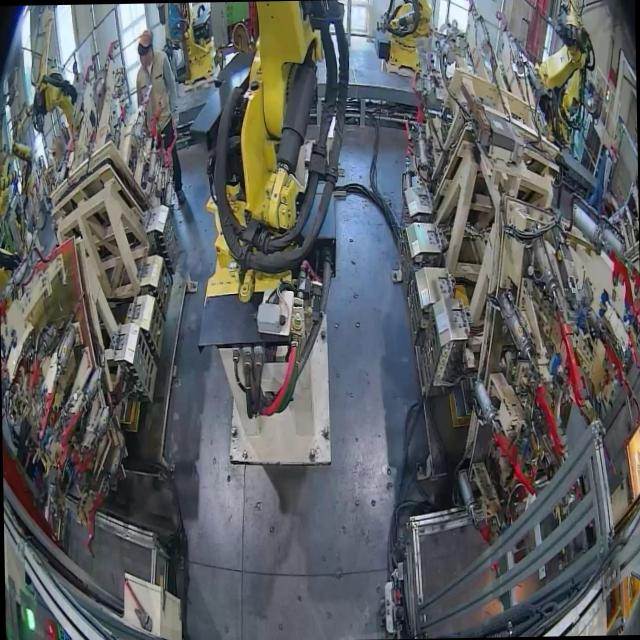Person: (135, 28, 186, 205)
